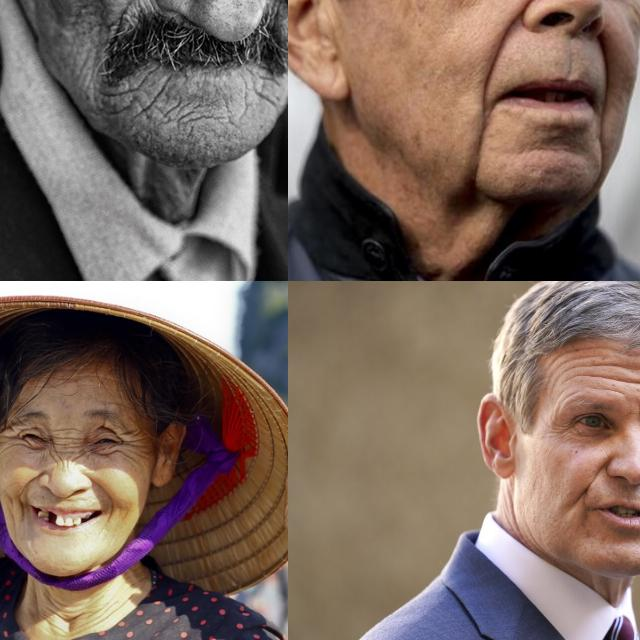bunny_line: (48, 446, 68, 468)
chin: (128, 73, 174, 124), (180, 104, 228, 128), (252, 78, 280, 114)
crows_feet: (122, 432, 142, 462), (549, 416, 571, 440), (2, 424, 18, 448)
forehead: (587, 344, 613, 380), (551, 351, 583, 377), (618, 356, 638, 392), (76, 368, 110, 382)
frown_line: (56, 434, 82, 456), (56, 424, 82, 432), (634, 400, 640, 418)
gummy_smile: (482, 12, 514, 86), (594, 44, 614, 98), (19, 466, 45, 498), (93, 478, 117, 508), (584, 457, 604, 493), (121, 0, 156, 15), (264, 0, 288, 21)
masseter: (1, 491, 17, 525)
sad_smile: (469, 120, 495, 166), (590, 130, 610, 176), (17, 502, 27, 528)
